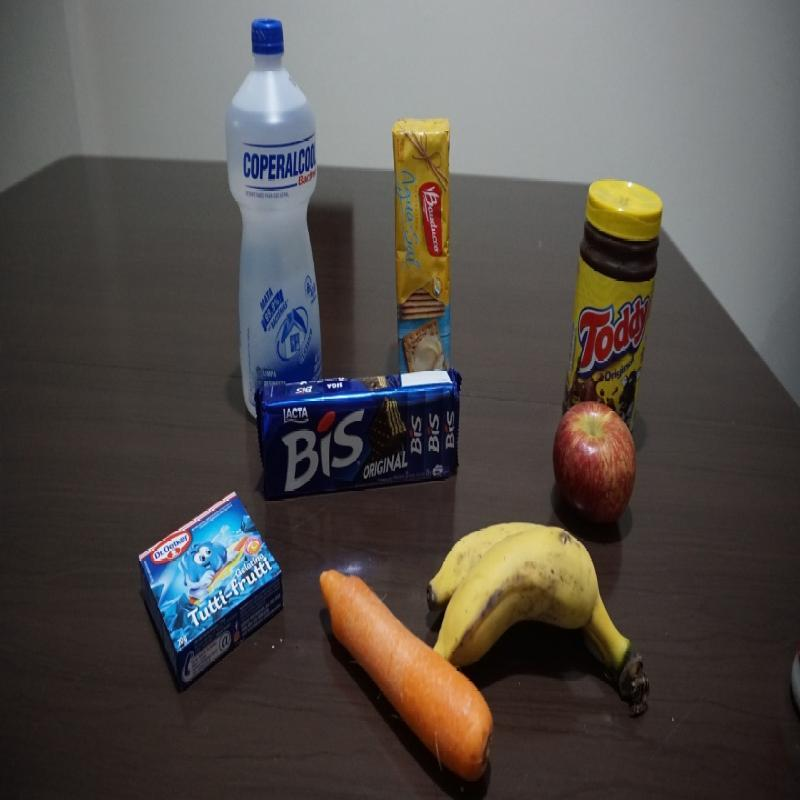Alcohol Bottle: (229, 17, 330, 366)
Apple: (552, 401, 647, 513)
Banana: (438, 520, 653, 739)
Carrot: (313, 565, 432, 757)
Chocolate Powder: (572, 174, 669, 380)
Cracker: (388, 117, 456, 362)
Gelatine: (130, 490, 284, 688)
